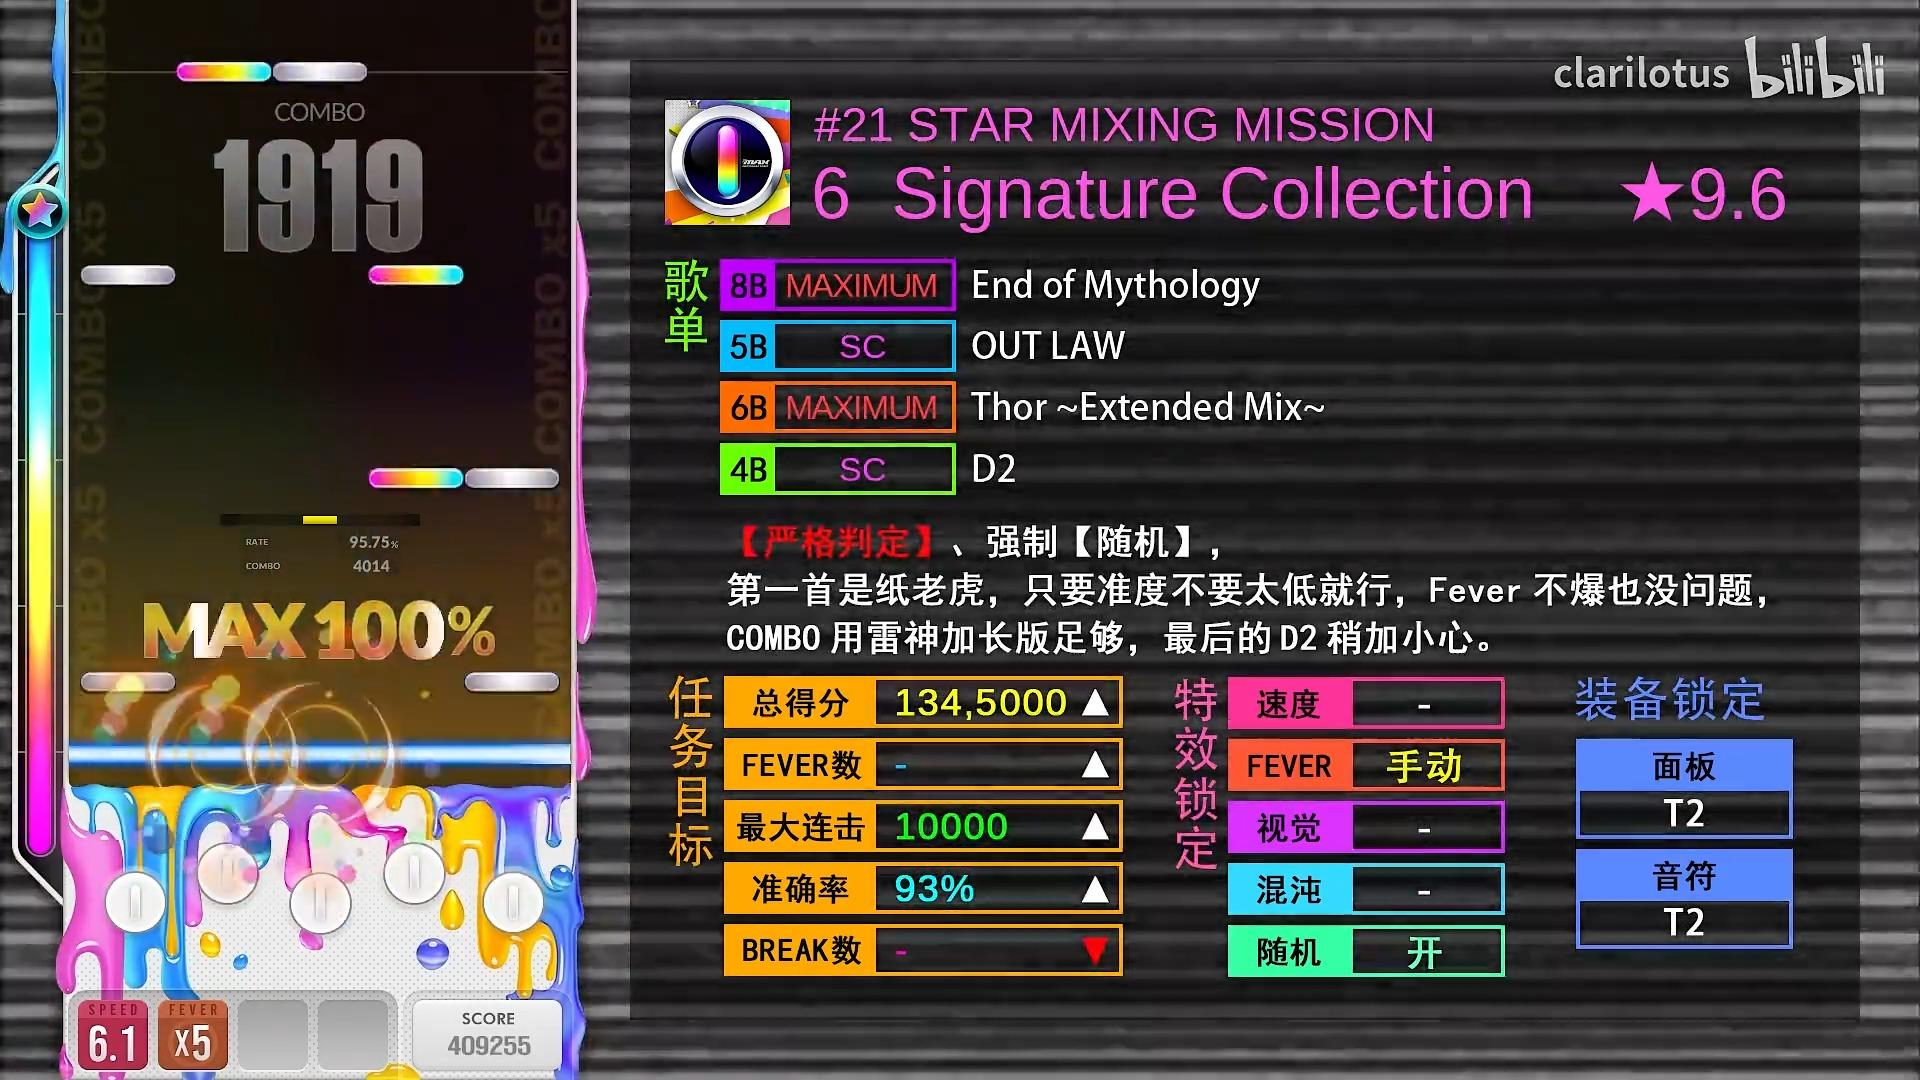note: (79, 671, 177, 694), (464, 671, 560, 694), (177, 61, 272, 82), (368, 468, 463, 489), (464, 468, 559, 489), (82, 265, 175, 286), (274, 62, 367, 83), (368, 265, 464, 285)
